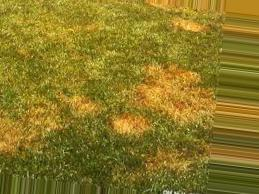patch: (153, 69, 199, 106), (7, 120, 45, 135), (164, 158, 195, 168), (121, 118, 141, 130)
